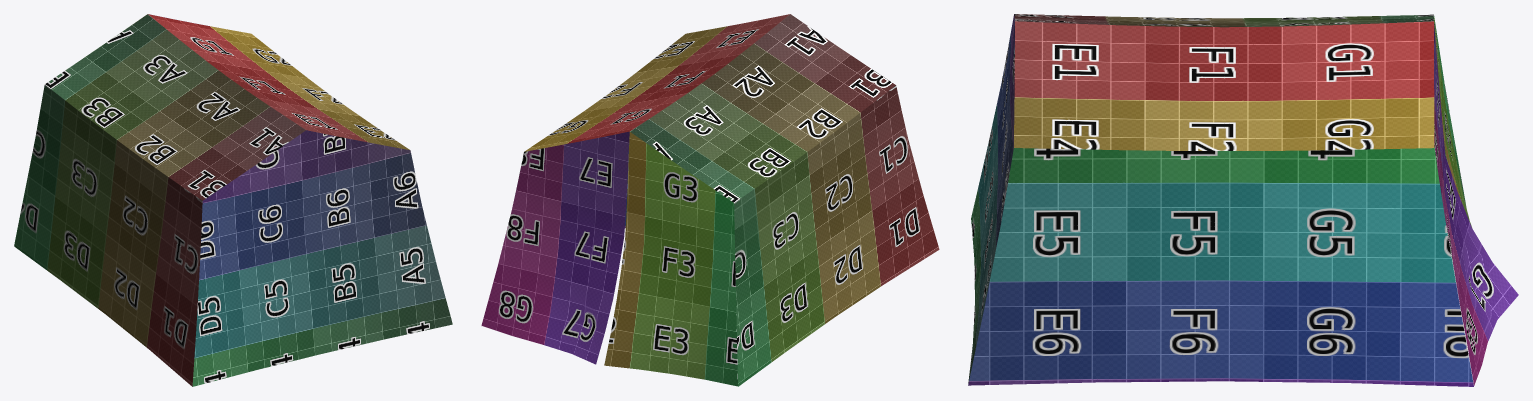
Rendered from tent2_2024.glb.
The picture shows the model from 3 angles, left to right: view 1: azimuth 30°, elevation 25°; view 2: azimuth 150°, elevation 25°; view 3: azimuth 270°, elevation 25°; orthographic projection. The views are drawn at different scales.
Parts seen in each view (by area): view 1: BASE.TENT.2.2024; view 2: BASE.TENT.2.2024; view 3: BASE.TENT.2.2024.
Part boxes in pixels (x1=…): BASE.TENT.2.2024: x1=14, y1=14, x2=452, y2=386; BASE.TENT.2.2024: x1=481, y1=14, x2=939, y2=386; BASE.TENT.2.2024: x1=968, y1=14, x2=1518, y2=386.
Size of the model in its own units: 3.81 by 2.96 by 5.26.
Materials: 1 (1 with a texture image).
